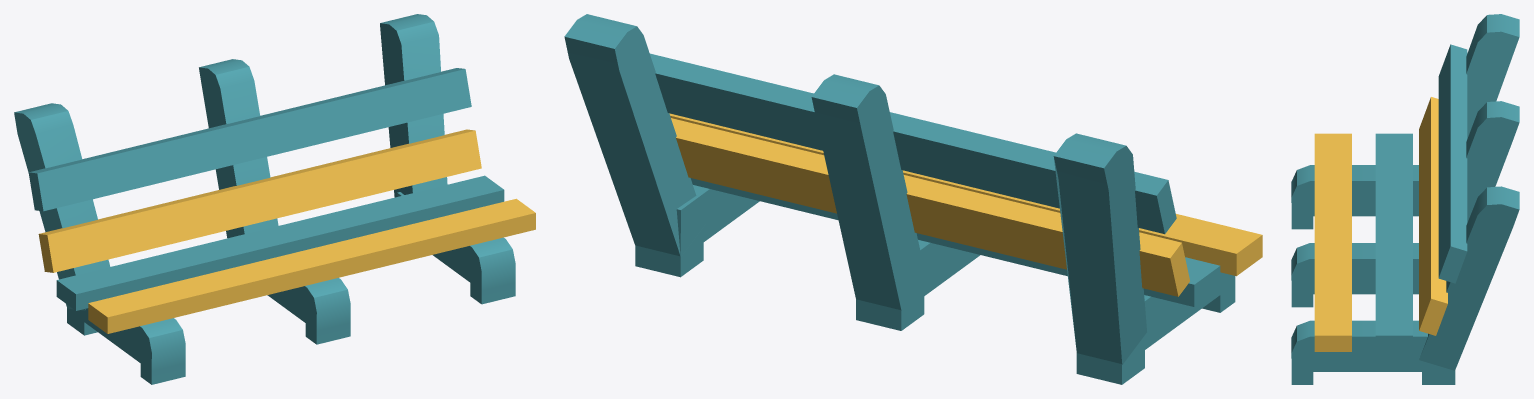
Rendered from Bench 1.fbx.
3 renders of one model, left to right at view 1: azimuth 30°, elevation 25°; view 2: azimuth 150°, elevation 25°; view 3: azimuth 270°, elevation 25°, orthographic. The views are drawn at different scales.
Parts seen in each view (by area): view 1: Bench 1; view 2: Bench 1; view 3: Bench 1.
Part boxes in pixels (x1=…): Bench 1: x1=14, y1=14, x2=535, y2=384; Bench 1: x1=564, y1=14, x2=1262, y2=384; Bench 1: x1=1291, y1=14, x2=1519, y2=384.
Size of the model in its own units: 423 by 186 by 202.
